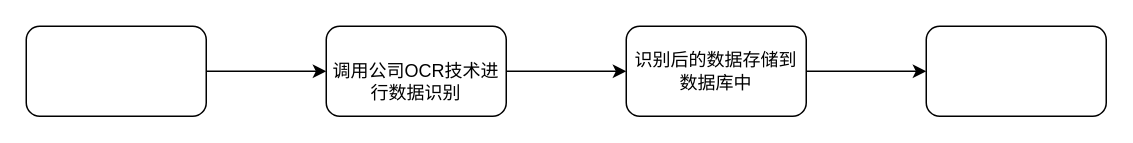
Image size: 1133x143. Some labels were removed from this diagram. Here are the shapes that lost their labels. From the top down, the box of each, then its label:
(25, 25, 206, 116): CRC 使用EDC手机端拍照
(925, 25, 1106, 116): 后续的数据清理工作
